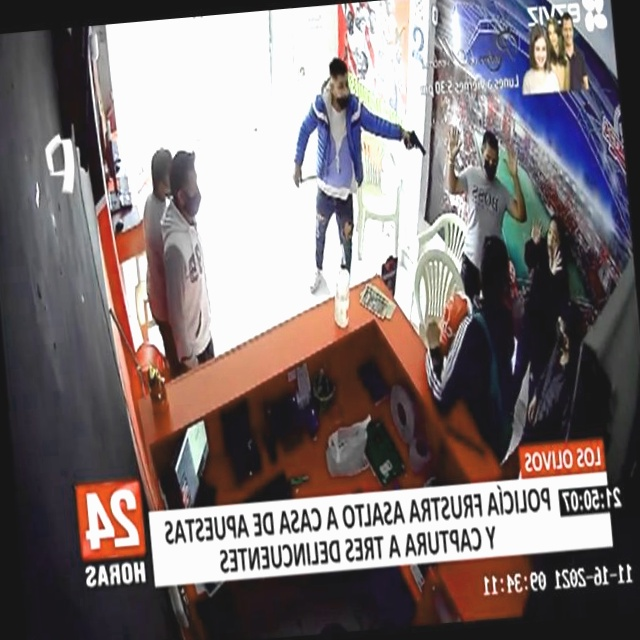gun: (397, 116, 432, 165)
